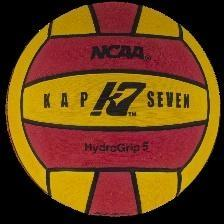Sports-Ball: (7, 0, 220, 224)
